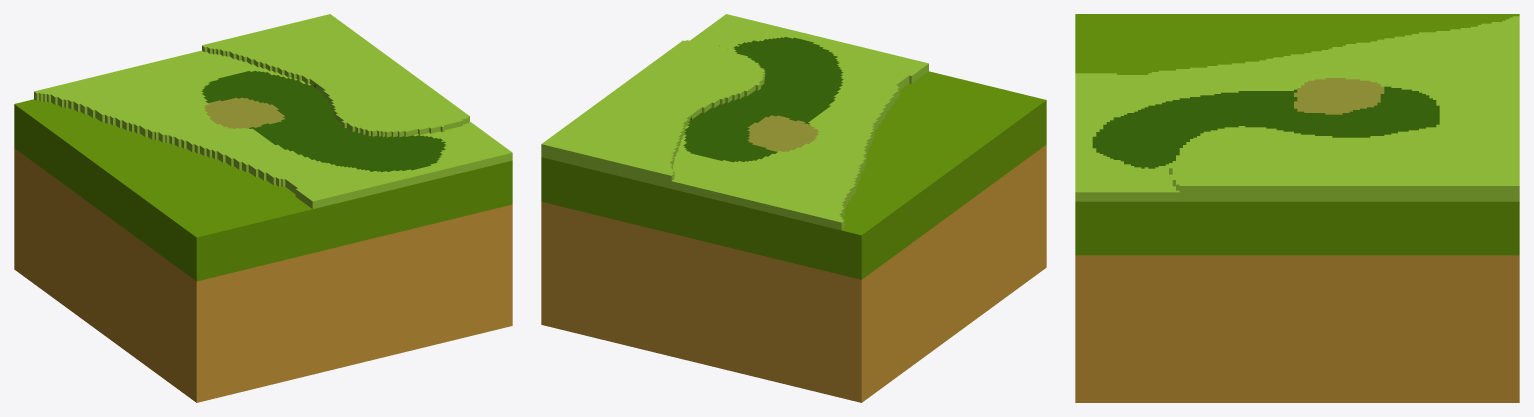
3 renders of one model, left to right at view 1: azimuth 30°, elevation 25°; view 2: azimuth 150°, elevation 25°; view 3: azimuth 270°, elevation 25°, orthographic. The views are drawn at different scales.
Parts seen in each view (by area): view 1: 15K; view 2: 15K; view 3: 15K.
Part boxes in pixels (<box>): 15K: <box>14,14,512,402</box>; 15K: <box>541,14,1046,402</box>; 15K: <box>1075,14,1519,402</box>.
Bounding box in the file's own units: 12.8 × 6.9 × 12.8.
Materials: 1 (1 with a texture image).
